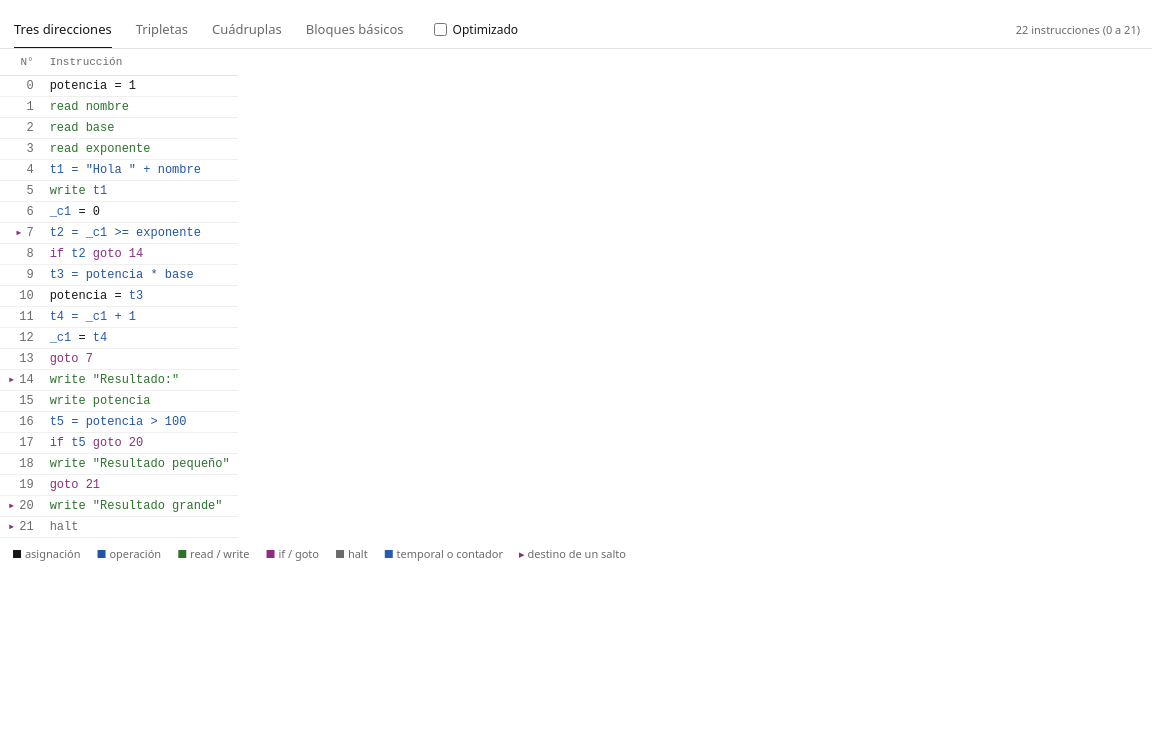
it: código intermedio optimizado › tripletas optimizadas: la operación y la asignación a la variable (Q1)
Click the tab "Tripletas" at point(162, 30), box [126,12,198,48]
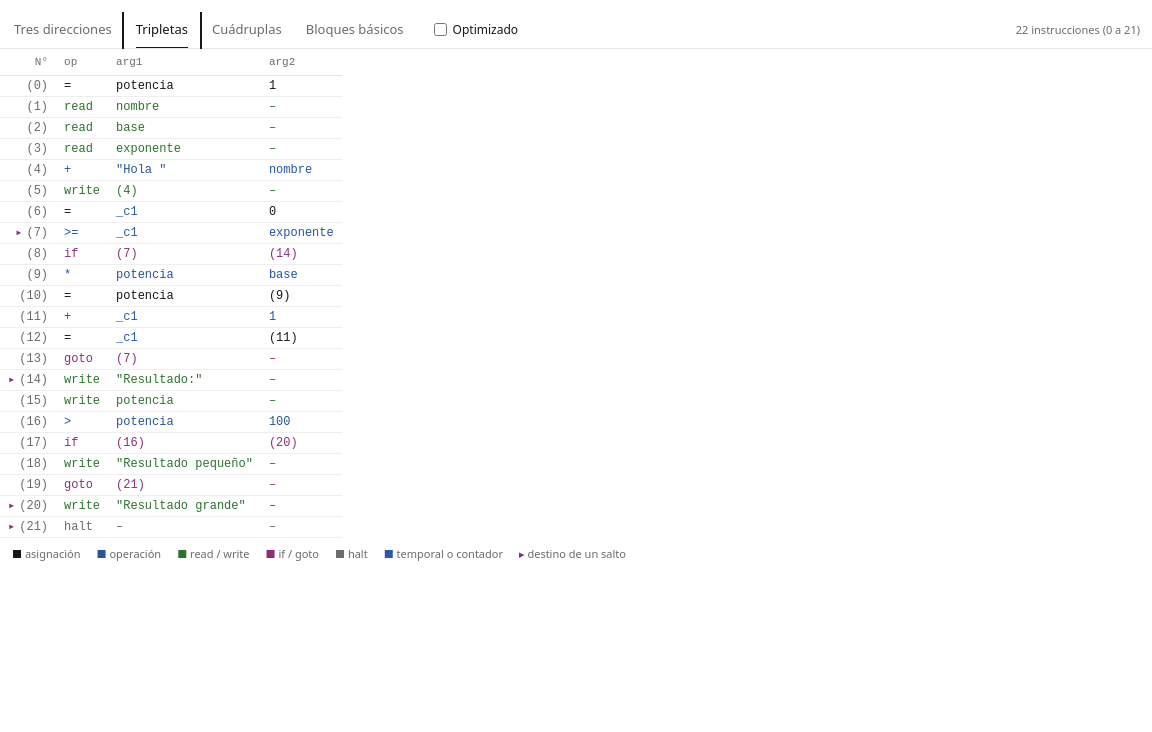
Click the checkbox labelled "Optimizado" at point(440, 30), box [434,23,447,36]
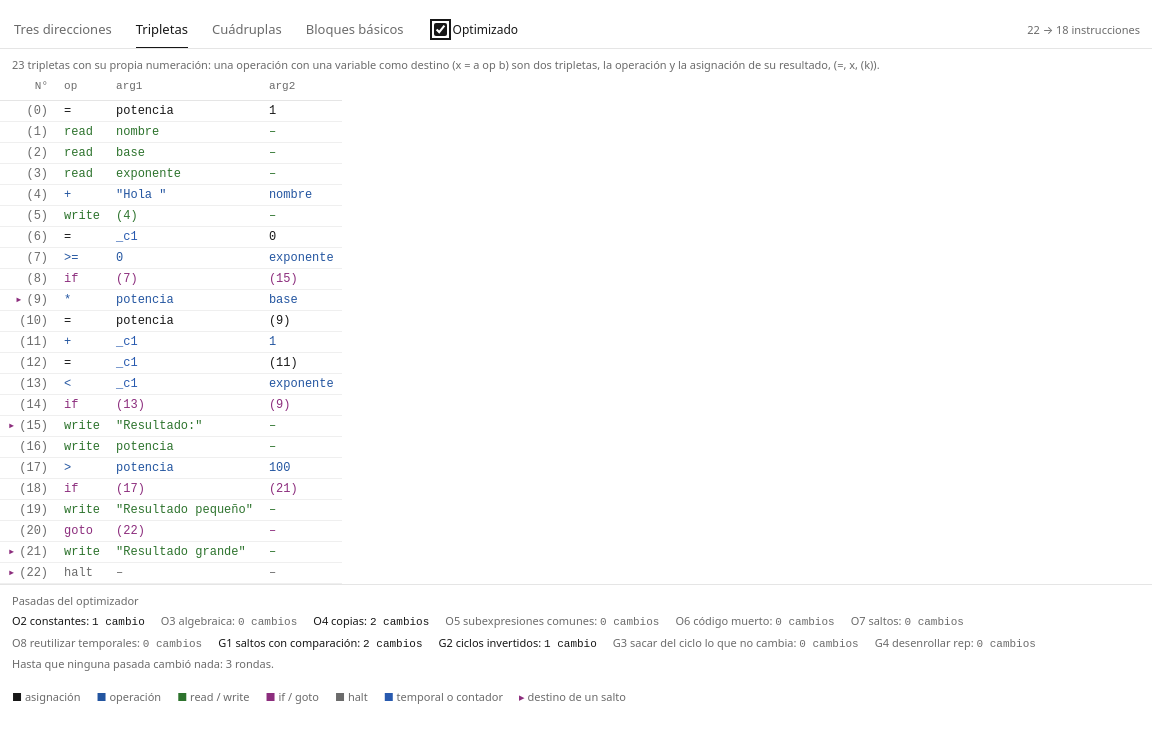
Expected: the row "▸(9) * potencia base" is shown, [0,289,342,310]
Expected: the row "(10) = potencia (9)" is shown, [0,310,342,331]
Expected: the row "(16) write potencia –" is shown, [0,436,342,457]
